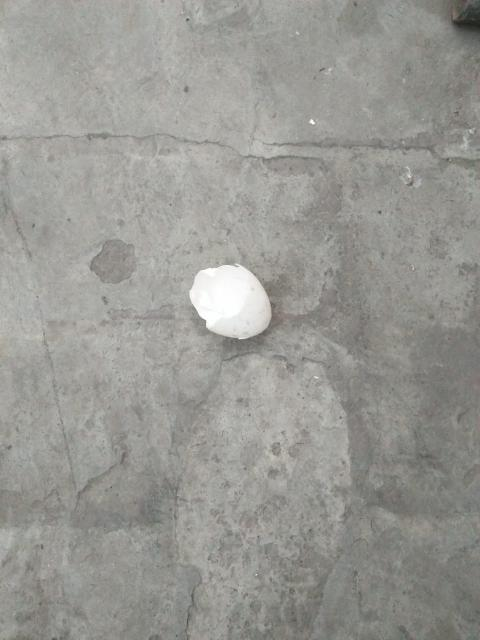Roto: (188, 262, 272, 340)
